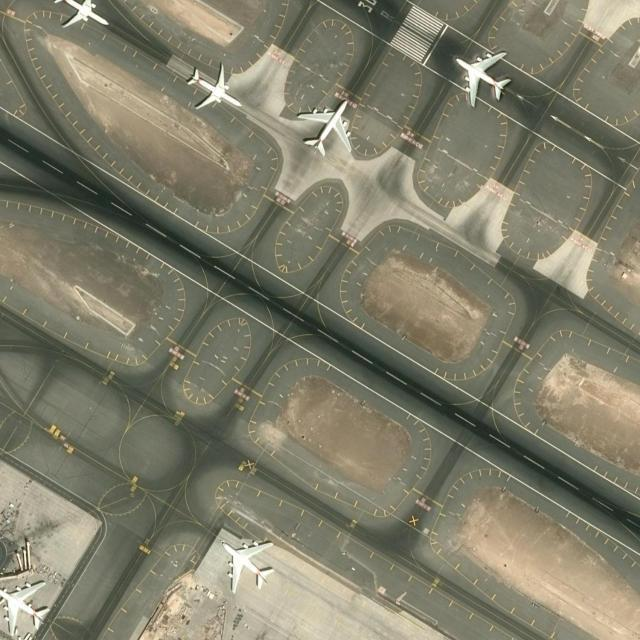Aircraft: (449, 45, 513, 105), (297, 92, 353, 158), (220, 532, 274, 594), (180, 62, 240, 114), (0, 579, 52, 632), (51, 0, 111, 34)
